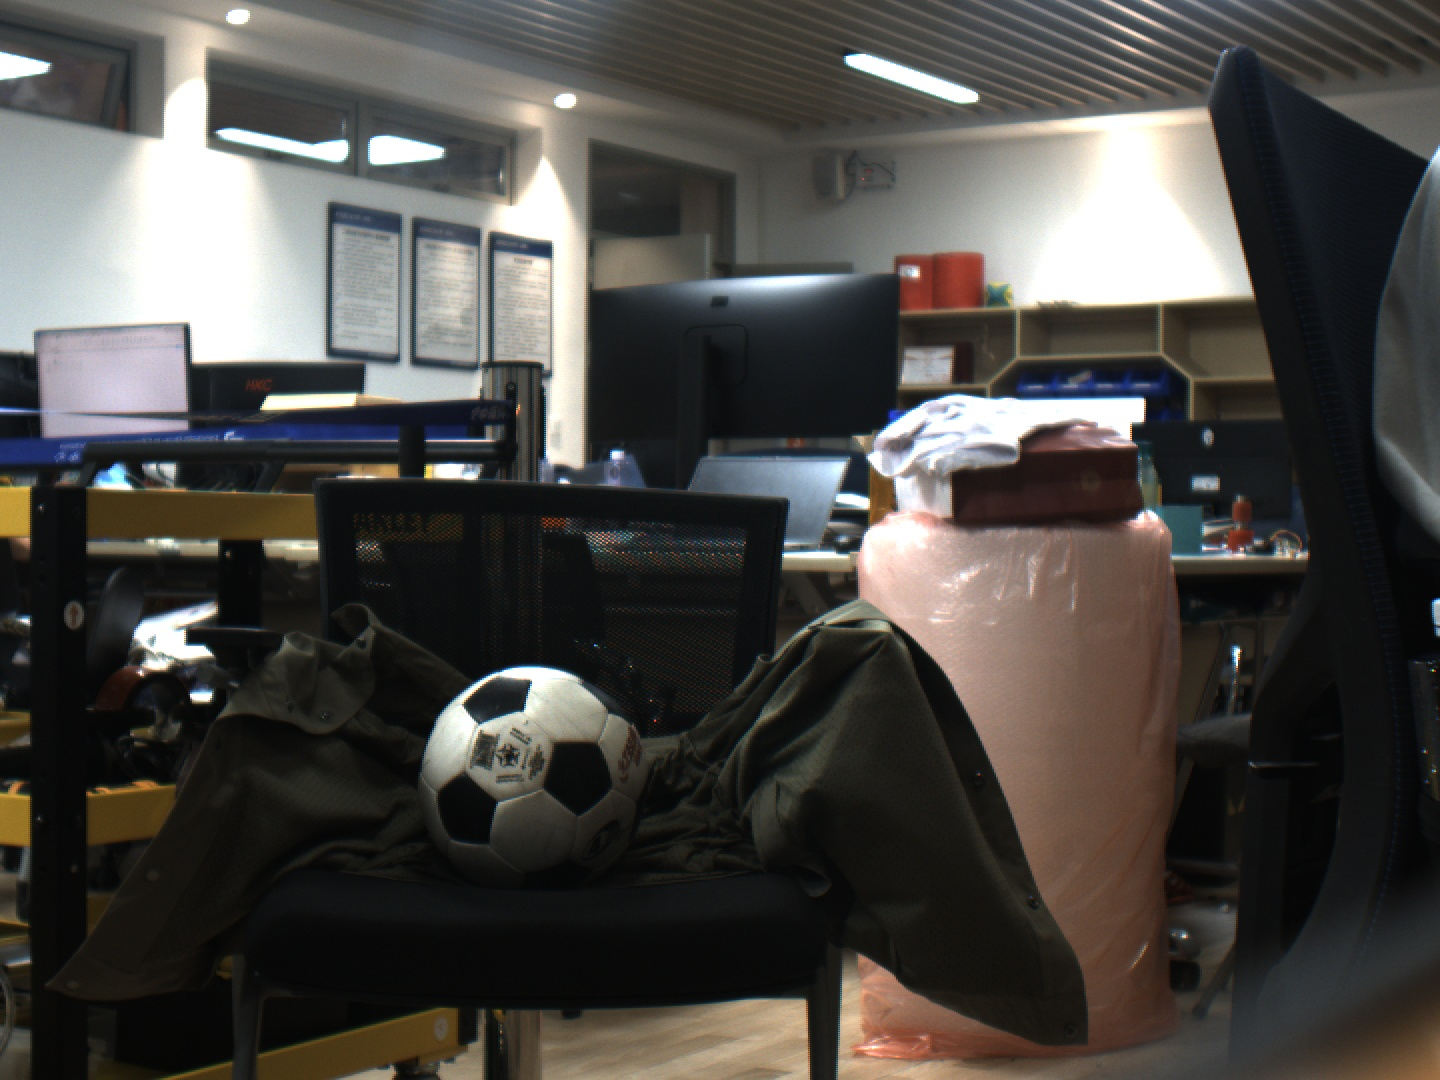ball: (420, 665, 652, 888)
